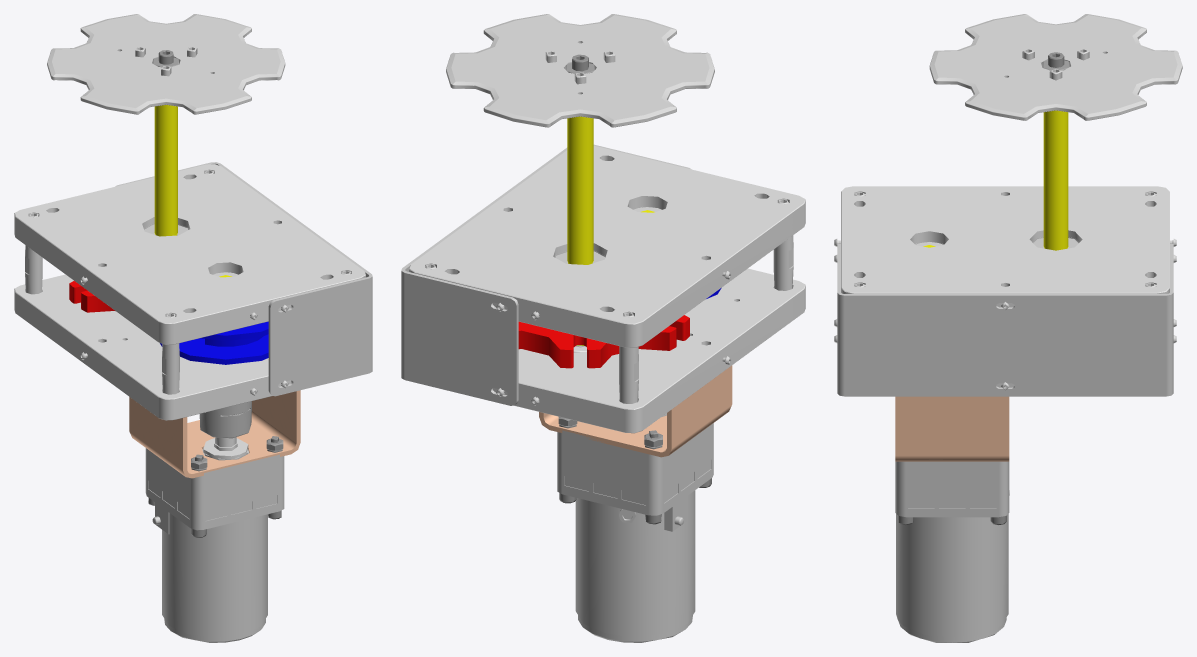
The model's file is GenevaDisk_New.fbx.
The picture shows the model from 3 angles, left to right: view 1: azimuth 30°, elevation 25°; view 2: azimuth 150°, elevation 25°; view 3: azimuth 270°, elevation 25°; orthographic projection. The views are drawn at different scales.
Visible parts, largest first — view 1: geneva_disk_system.001, geneva_disk_system.003, geneva_disk_system.002, geneva_disk_system.007, geneva_disk_system.006, geneva_disk_system.004, geneva_disk_system, geneva_disk_system.009, geneva_disk_system.005; view 2: geneva_disk_system.001, geneva_disk_system.003, geneva_disk_system.002, geneva_disk_system.007, geneva_disk_system.006, geneva_disk_system.005, geneva_disk_system.009; view 3: geneva_disk_system.003, geneva_disk_system.001, geneva_disk_system.002, geneva_disk_system.007, geneva_disk_system.006.
Part boxes in pixels (left/top/right/bottom): geneva_disk_system.001: left=14, top=164, right=365, bottom=459; geneva_disk_system.003: left=80, top=162, right=372, bottom=642; geneva_disk_system.002: left=25, top=14, right=351, bottom=394; geneva_disk_system.007: left=129, top=390, right=300, bottom=478; geneva_disk_system.006: left=154, top=105, right=231, bottom=277; geneva_disk_system.004: left=160, top=321, right=268, bottom=364; geneva_disk_system: left=199, top=401, right=251, bottom=438; geneva_disk_system.009: left=148, top=50, right=283, bottom=537; geneva_disk_system.005: left=69, top=281, right=114, bottom=312; geneva_disk_system.001: left=409, top=145, right=805, bottom=433; geneva_disk_system.003: left=401, top=144, right=731, bottom=642; geneva_disk_system.002: left=425, top=14, right=793, bottom=403; geneva_disk_system.007: left=539, top=365, right=732, bottom=457; geneva_disk_system.006: left=567, top=116, right=654, bottom=345; geneva_disk_system.005: left=518, top=315, right=689, bottom=368; geneva_disk_system.009: left=558, top=54, right=711, bottom=524; geneva_disk_system.003: left=834, top=237, right=1176, bottom=642; geneva_disk_system.001: left=841, top=186, right=1169, bottom=387; geneva_disk_system.002: left=854, top=14, right=1182, bottom=287; geneva_disk_system.007: left=895, top=396, right=1009, bottom=461; geneva_disk_system.006: left=923, top=110, right=1068, bottom=250.
Bounding box in the file's own units: 2104 × 4942 × 2752.
